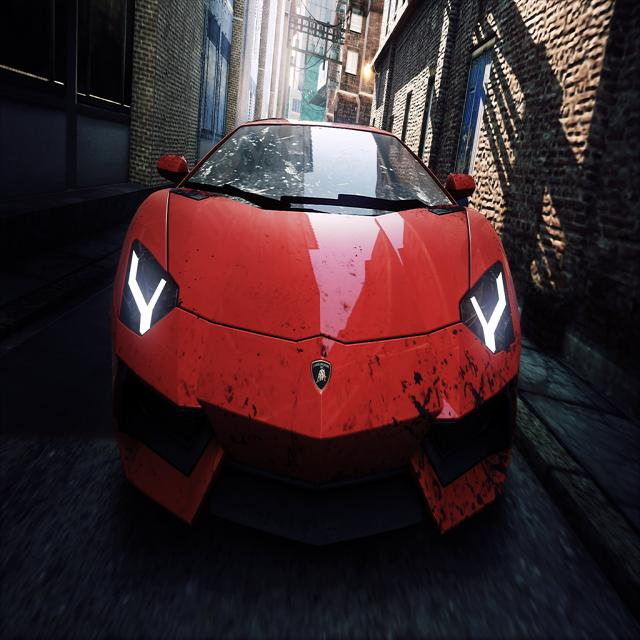Car: (109, 118, 522, 546)
